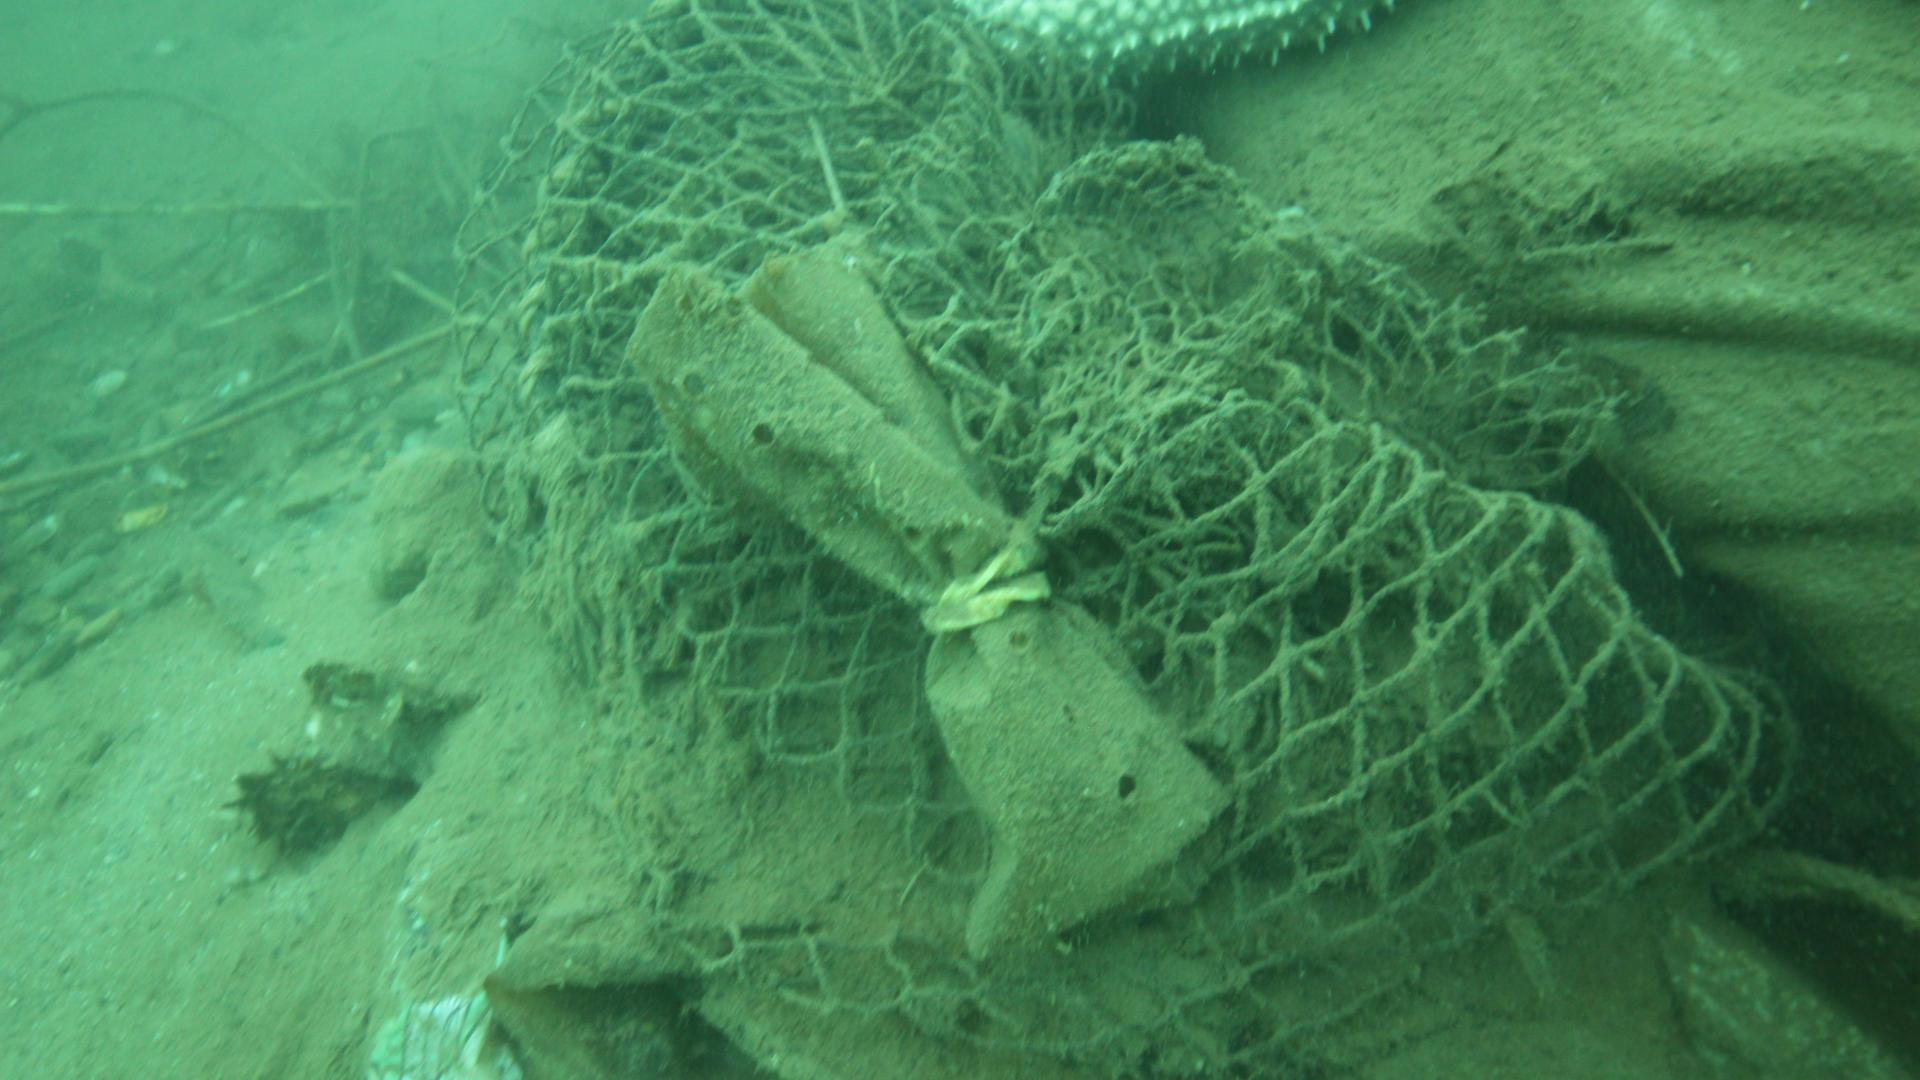fish net: (448, 3, 1803, 1080)
